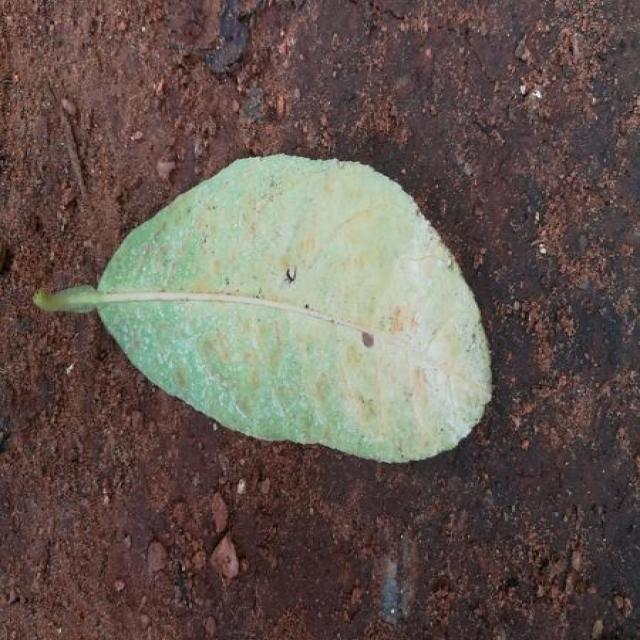badipala: (35, 155, 492, 462)
disease in leaf: (222, 180, 492, 462)
